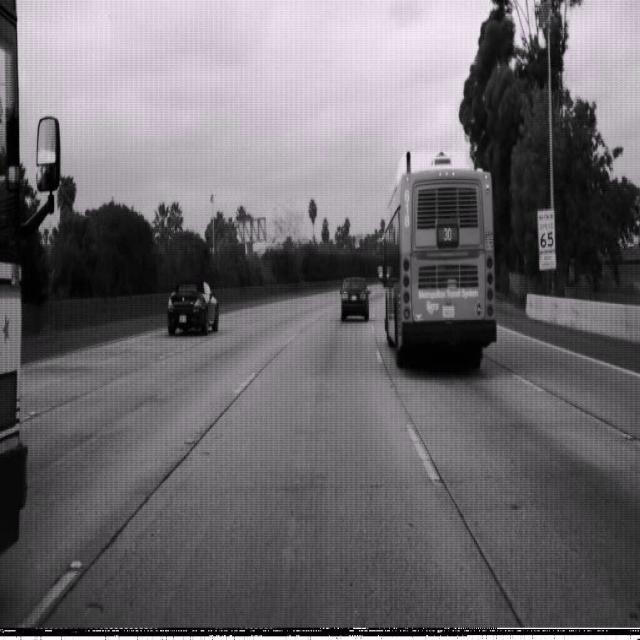speedLimit65: (536, 207, 556, 253)
